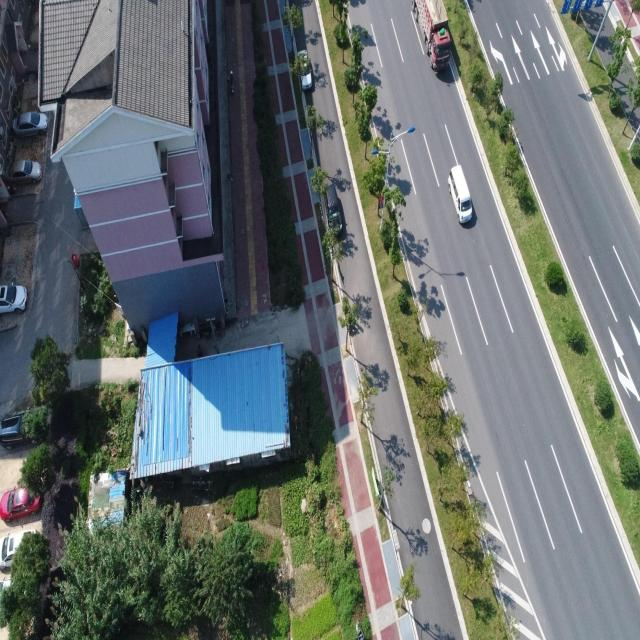p3rson: (197, 344, 202, 358)
